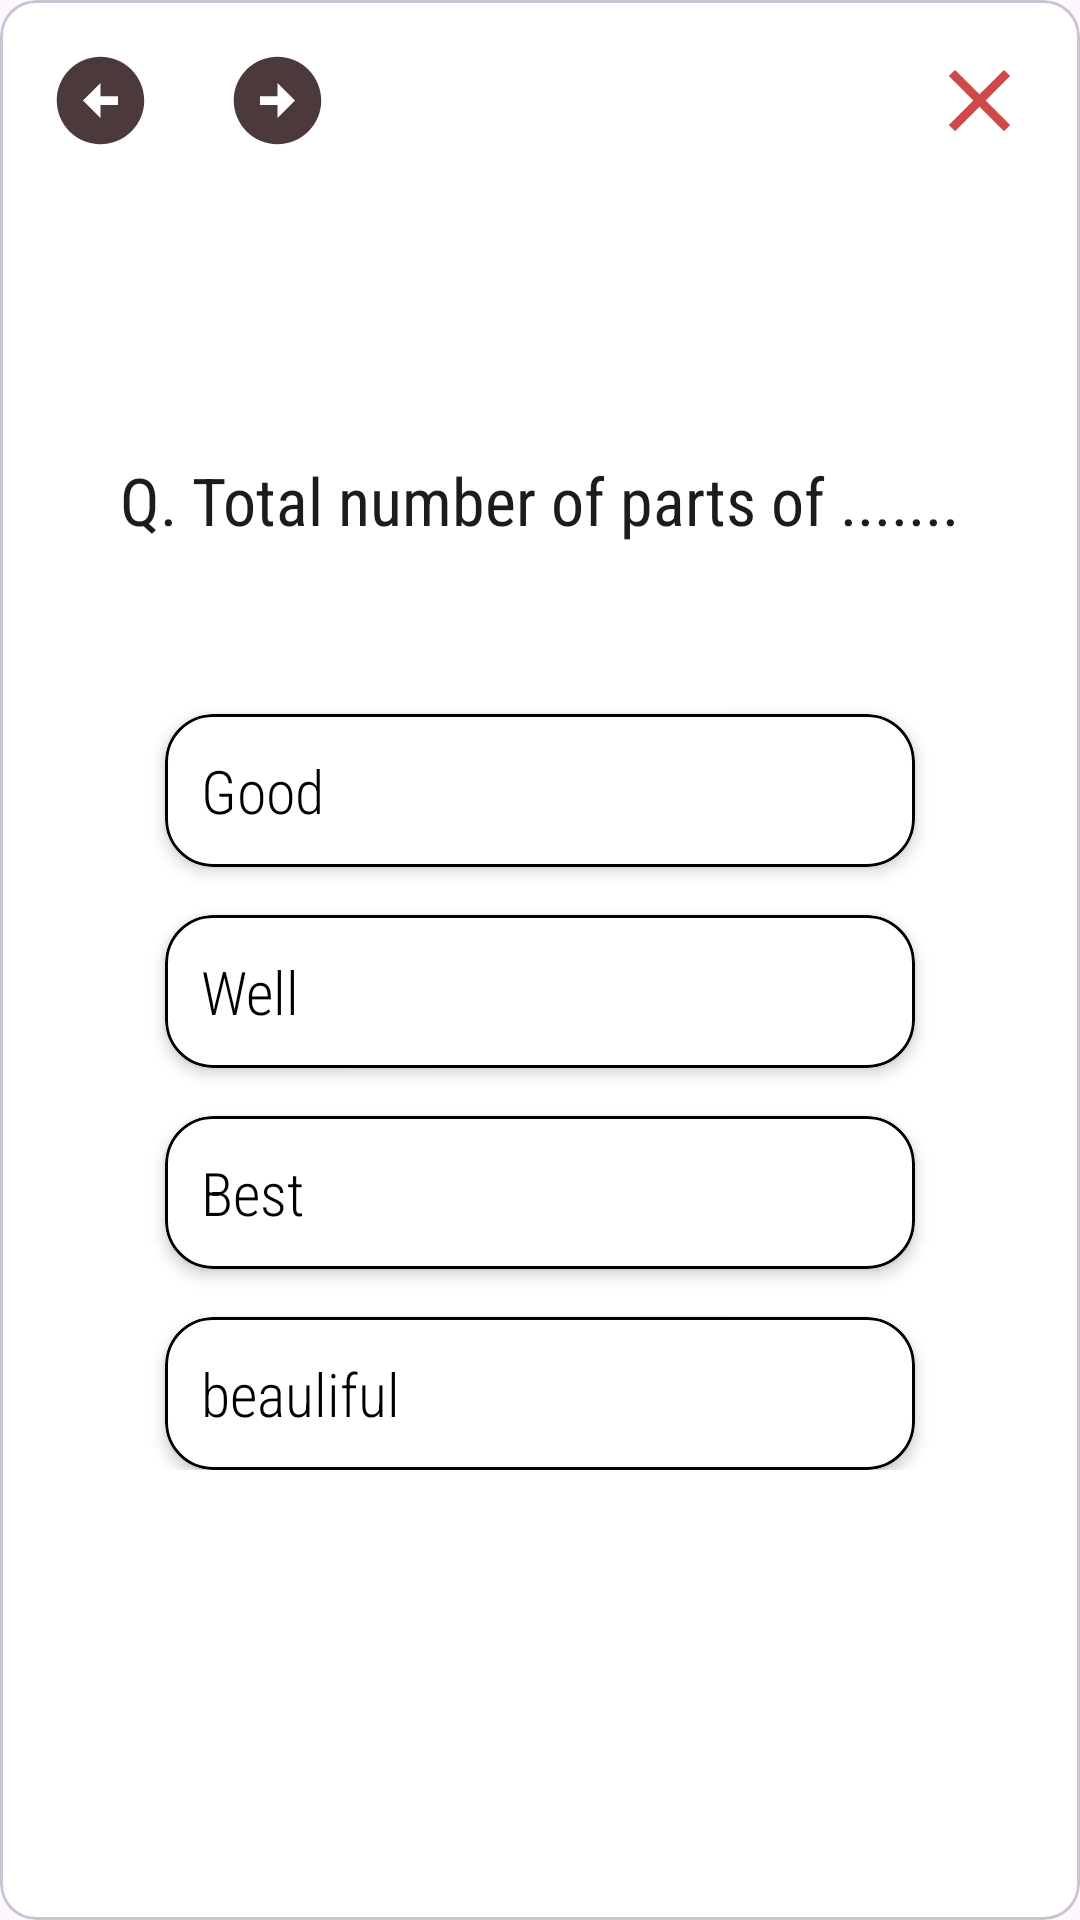

Locate icon controls on the screen. Image size 1080 x 1920, boxes as BBox(x1, y1, x2, y2).
arrow circle left: BBox(56, 56, 145, 145)
arrow circle right: BBox(233, 56, 322, 145)
close: BBox(949, 70, 1010, 131)
